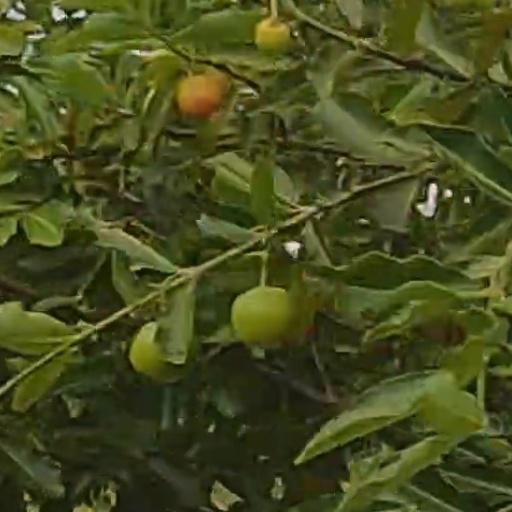acerola_verde: (233, 288, 295, 343), (132, 325, 192, 378), (256, 20, 287, 50)
acerola_vermelha: (179, 76, 220, 111)
